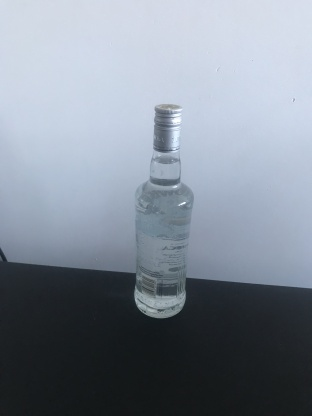nakretka: (151, 100, 184, 154)
